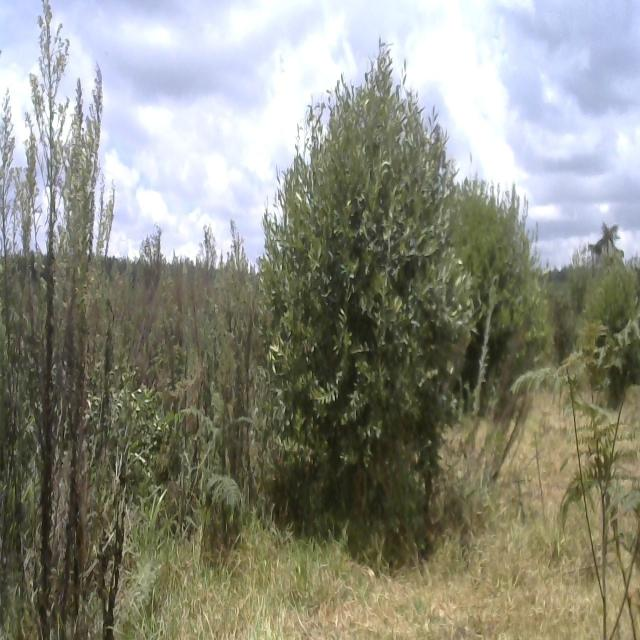Olea europea -africana-: (269, 60, 462, 488), (446, 176, 538, 364), (585, 252, 640, 382)
